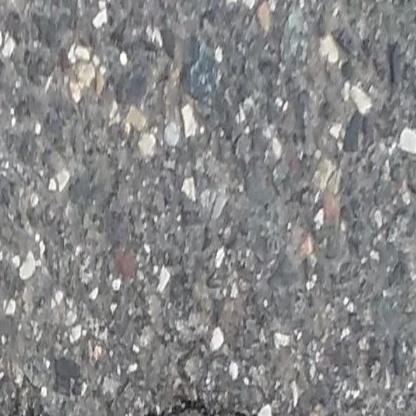Cracks: (0, 376, 296, 416)
